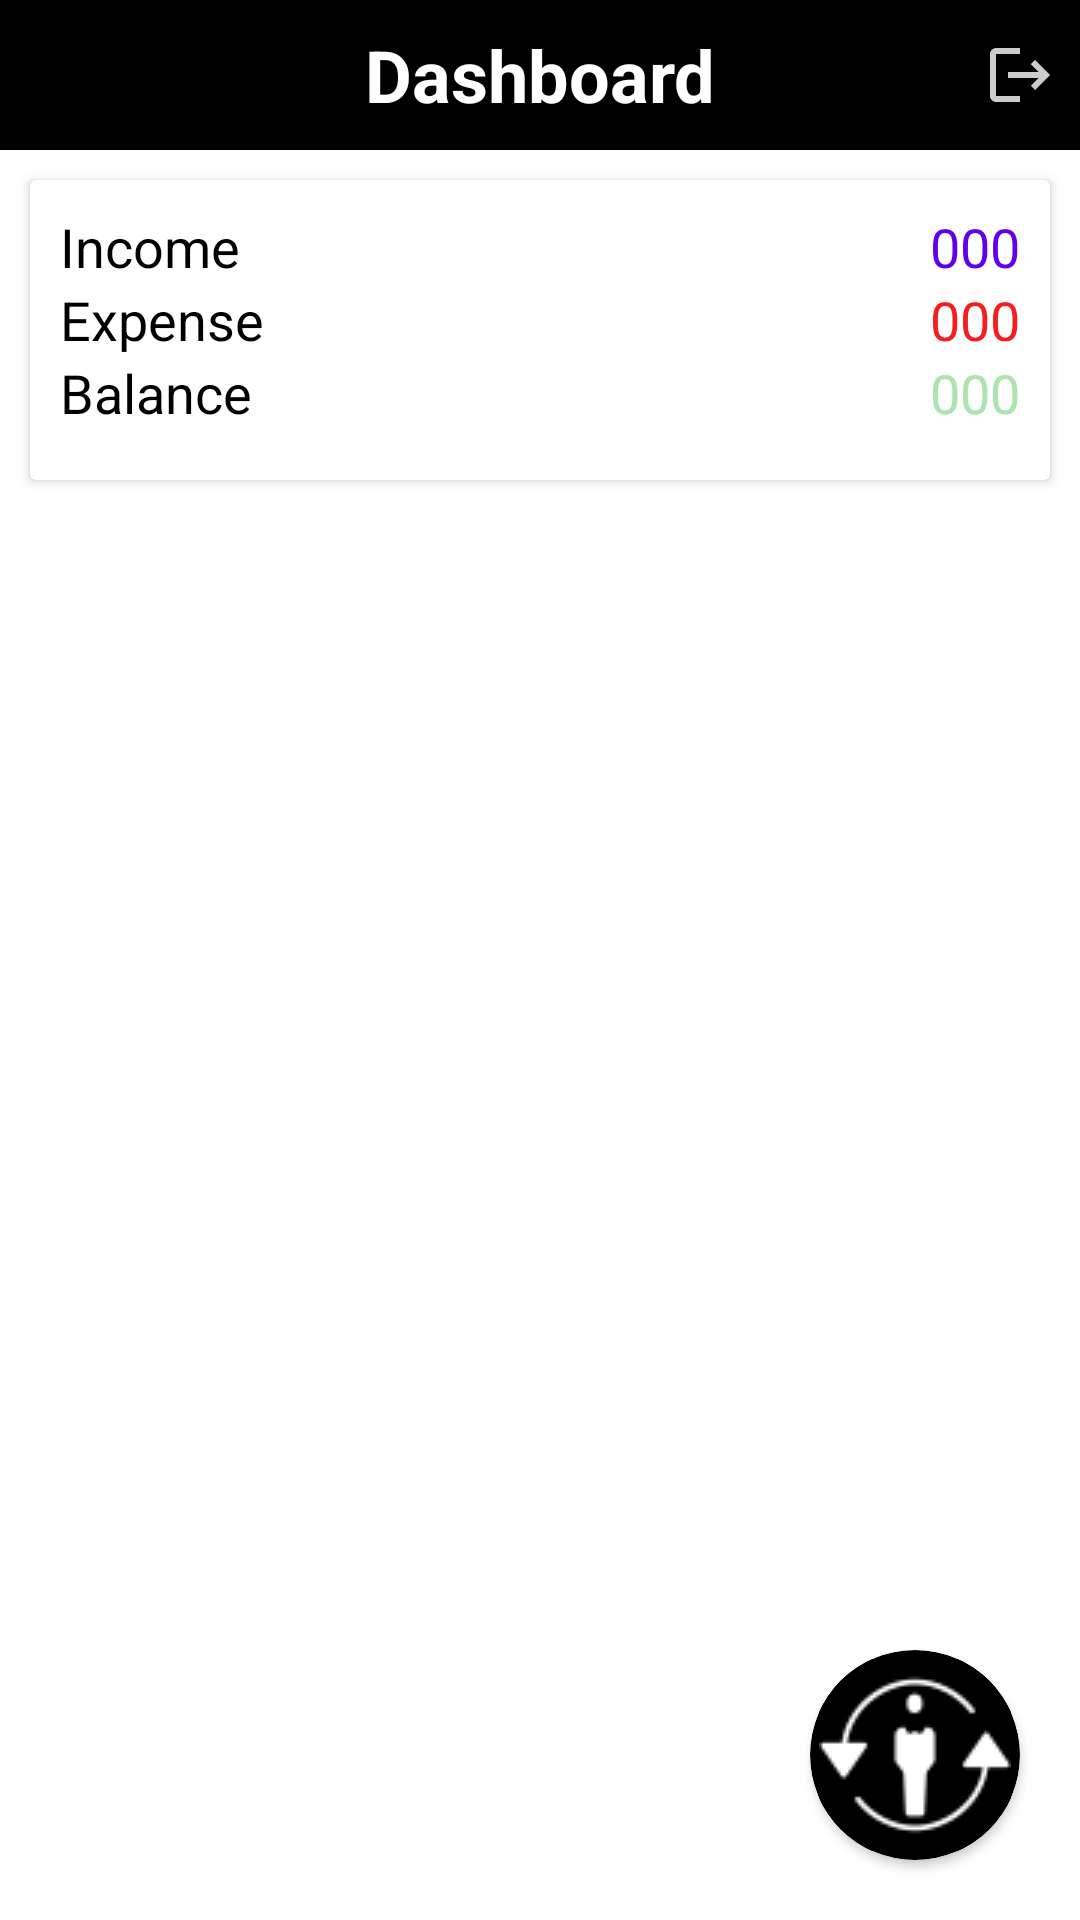

Where icons sit on this 1080w x 1920h app screen, as bbox=[x1, y1, x2, y2]:
management: bbox=[819, 1659, 1011, 1851]
